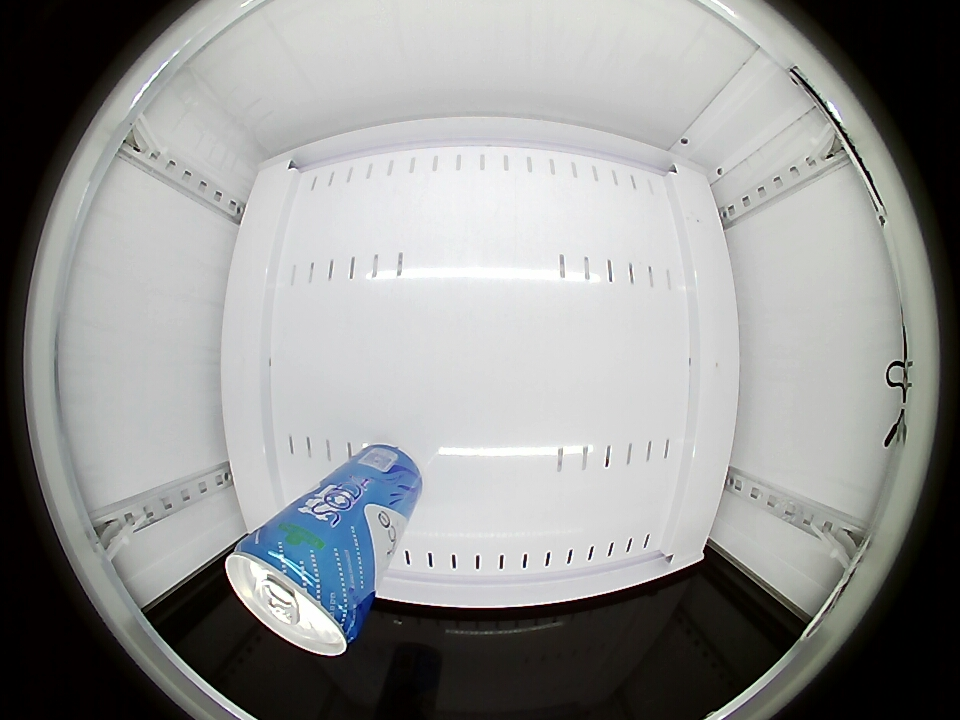qingdaowangzi-2: (226, 522, 368, 657)
